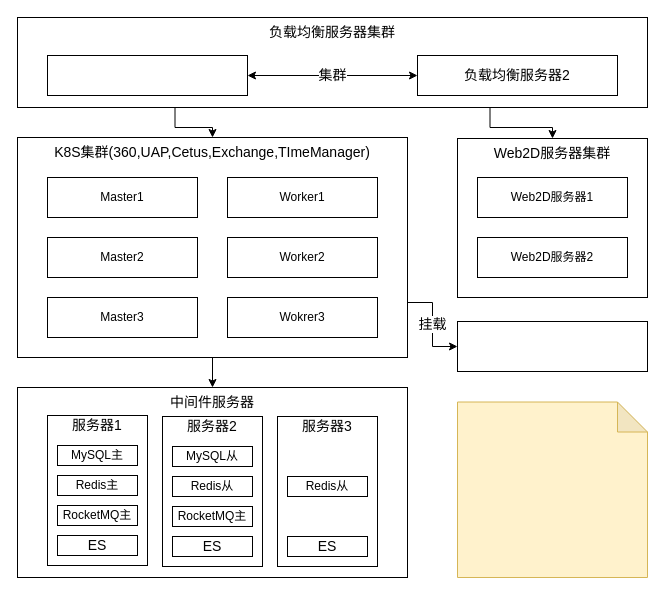
Some shapes in this 665 by 595 pixel diagram are drawn without their labels. Here are the shapes that lost their labels. From the top down, the centre of each, then its label:
point 147,75: 负载均衡服务器1
point 552,346: OBS存储
point 552,489: CPU： 内存： 磁盘： OBS:
